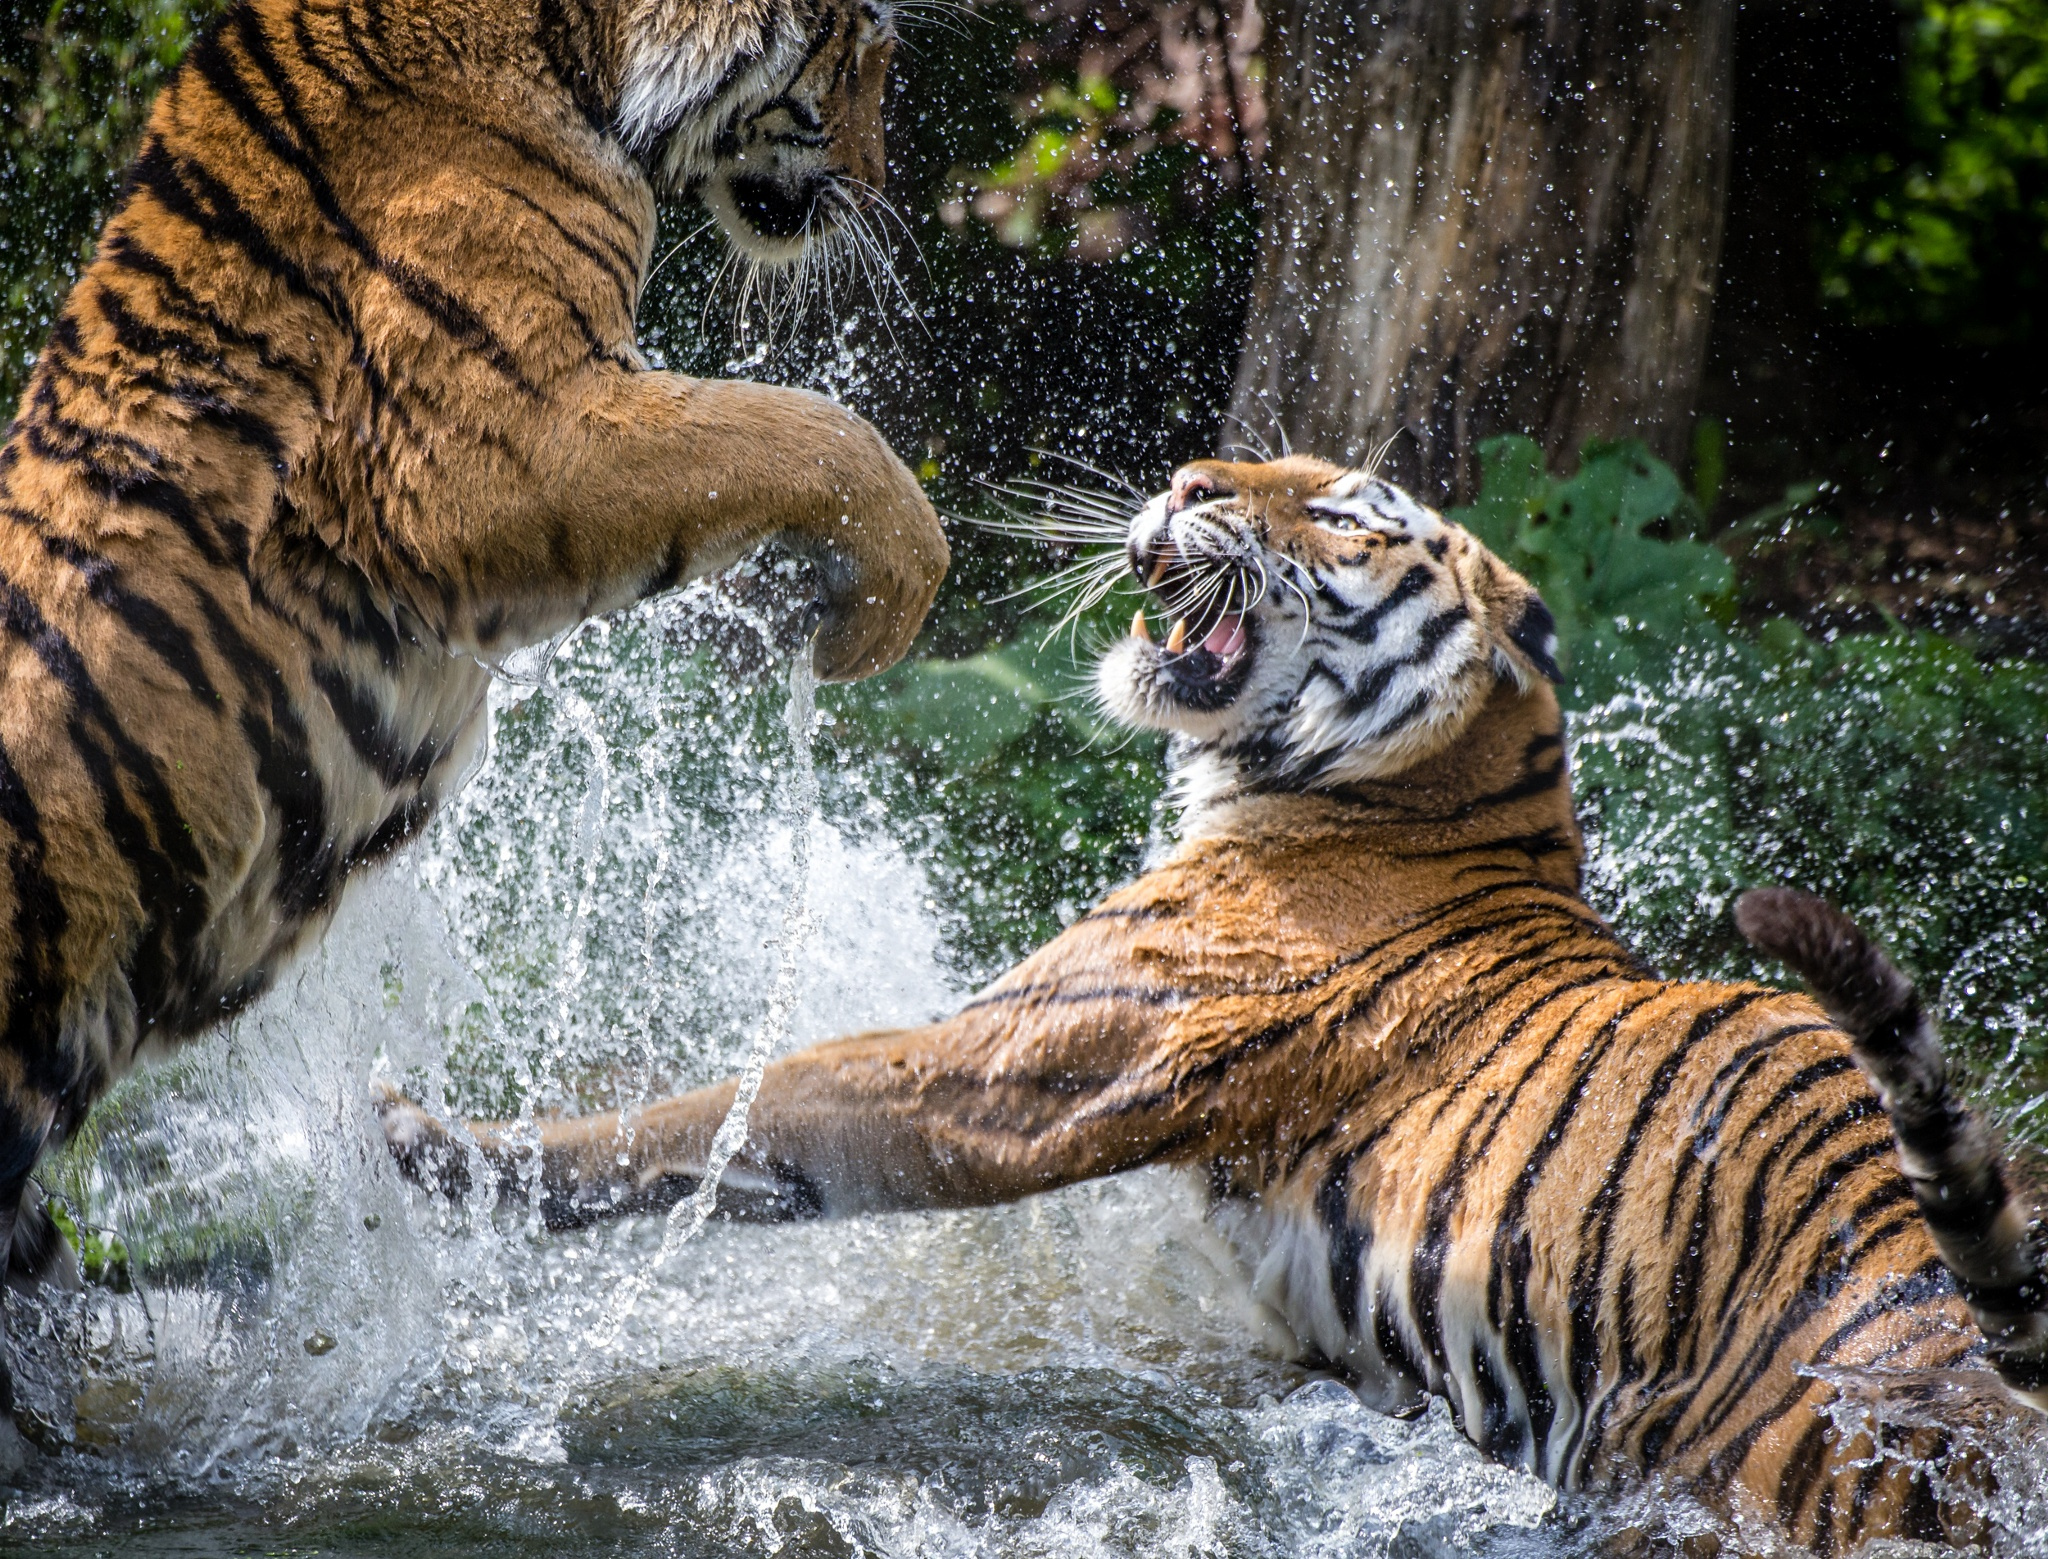tiger: (1035, 411, 2007, 1539), (26, 2, 866, 1279)
